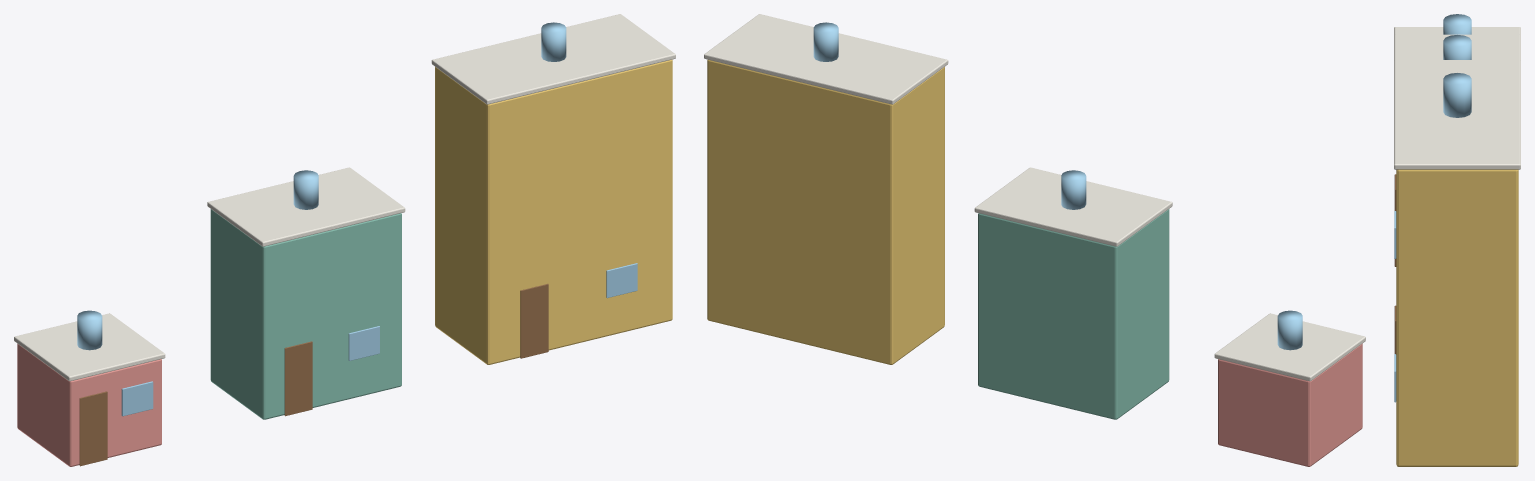
File: GamcheonHouseKit_blockout.glb
3 renders of one model, left to right at view 1: azimuth 30°, elevation 25°; view 2: azimuth 150°, elevation 25°; view 3: azimuth 270°, elevation 25°, orthographic. The views are drawn at different scales.
Parts seen in each view (by area): view 1: ENV02_GamcheonHouseKit_House2Wall_L0, ENV02_GamcheonHouseKit_House1Wall_L0, ENV02_GamcheonHouseKit_House2Roof_L0, ENV02_GamcheonHouseKit_House0Wall_L0, ENV02_GamcheonHouseKit_House1Roof_L0, ENV02_GamcheonHouseKit_House0Roof_L0, ENV02_GamcheonHouseKit_House2Door_L0, ENV02_GamcheonHouseKit_House1Door_L0, ENV02_GamcheonHouseKit_House0Door_L0, ENV02_GamcheonHouseKit_WaterTank0_L0, ENV02_GamcheonHouseKit_WaterTank1_L0, ENV02_GamcheonHouseKit_WaterTank2_L0 (+3 smaller); view 2: ENV02_GamcheonHouseKit_House2Wall_L0, ENV02_GamcheonHouseKit_House1Wall_L0, ENV02_GamcheonHouseKit_House0Wall_L0, ENV02_GamcheonHouseKit_House2Roof_L0, ENV02_GamcheonHouseKit_House1Roof_L0, ENV02_GamcheonHouseKit_House0Roof_L0, ENV02_GamcheonHouseKit_WaterTank0_L0, ENV02_GamcheonHouseKit_WaterTank1_L0, ENV02_GamcheonHouseKit_WaterTank2_L0; view 3: ENV02_GamcheonHouseKit_House2Wall_L0, ENV02_GamcheonHouseKit_House2Roof_L0, ENV02_GamcheonHouseKit_House1Roof_L0, ENV02_GamcheonHouseKit_WaterTank2_L0, ENV02_GamcheonHouseKit_House0Roof_L0, ENV02_GamcheonHouseKit_WaterTank1_L0, ENV02_GamcheonHouseKit_WaterTank0_L0.
Boxes of the visible parts, box(x1,y1,x2,y2) form: ENV02_GamcheonHouseKit_House2Wall_L0: box(435, 59, 672, 364); ENV02_GamcheonHouseKit_House1Wall_L0: box(210, 209, 401, 419); ENV02_GamcheonHouseKit_House2Roof_L0: box(431, 14, 675, 104); ENV02_GamcheonHouseKit_House0Wall_L0: box(17, 343, 161, 466); ENV02_GamcheonHouseKit_House1Roof_L0: box(207, 167, 405, 246); ENV02_GamcheonHouseKit_House0Roof_L0: box(14, 313, 165, 381); ENV02_GamcheonHouseKit_House2Door_L0: box(520, 284, 548, 358); ENV02_GamcheonHouseKit_House1Door_L0: box(284, 341, 312, 416); ENV02_GamcheonHouseKit_House0Door_L0: box(79, 391, 107, 466); ENV02_GamcheonHouseKit_WaterTank0_L0: box(77, 310, 102, 350); ENV02_GamcheonHouseKit_WaterTank1_L0: box(293, 170, 318, 209); ENV02_GamcheonHouseKit_WaterTank2_L0: box(541, 22, 566, 61); ENV02_GamcheonHouseKit_House2Wall_L0: box(707, 59, 944, 364); ENV02_GamcheonHouseKit_House1Wall_L0: box(978, 209, 1169, 419); ENV02_GamcheonHouseKit_House0Wall_L0: box(1218, 343, 1362, 466); ENV02_GamcheonHouseKit_House2Roof_L0: box(704, 14, 948, 104); ENV02_GamcheonHouseKit_House1Roof_L0: box(974, 167, 1172, 246); ENV02_GamcheonHouseKit_House0Roof_L0: box(1214, 313, 1365, 381); ENV02_GamcheonHouseKit_WaterTank0_L0: box(1277, 310, 1302, 350); ENV02_GamcheonHouseKit_WaterTank1_L0: box(1061, 170, 1086, 209); ENV02_GamcheonHouseKit_WaterTank2_L0: box(813, 22, 838, 61); ENV02_GamcheonHouseKit_House2Wall_L0: box(1396, 169, 1518, 466); ENV02_GamcheonHouseKit_House2Roof_L0: box(1394, 60, 1520, 169); ENV02_GamcheonHouseKit_House1Roof_L0: box(1394, 34, 1520, 60); ENV02_GamcheonHouseKit_WaterTank2_L0: box(1443, 73, 1471, 117); ENV02_GamcheonHouseKit_House0Roof_L0: box(1394, 27, 1520, 35); ENV02_GamcheonHouseKit_WaterTank1_L0: box(1443, 35, 1471, 59); ENV02_GamcheonHouseKit_WaterTank0_L0: box(1443, 14, 1471, 34).
Size of the model in its own units: 19.62 by 9.15 by 3.12.
